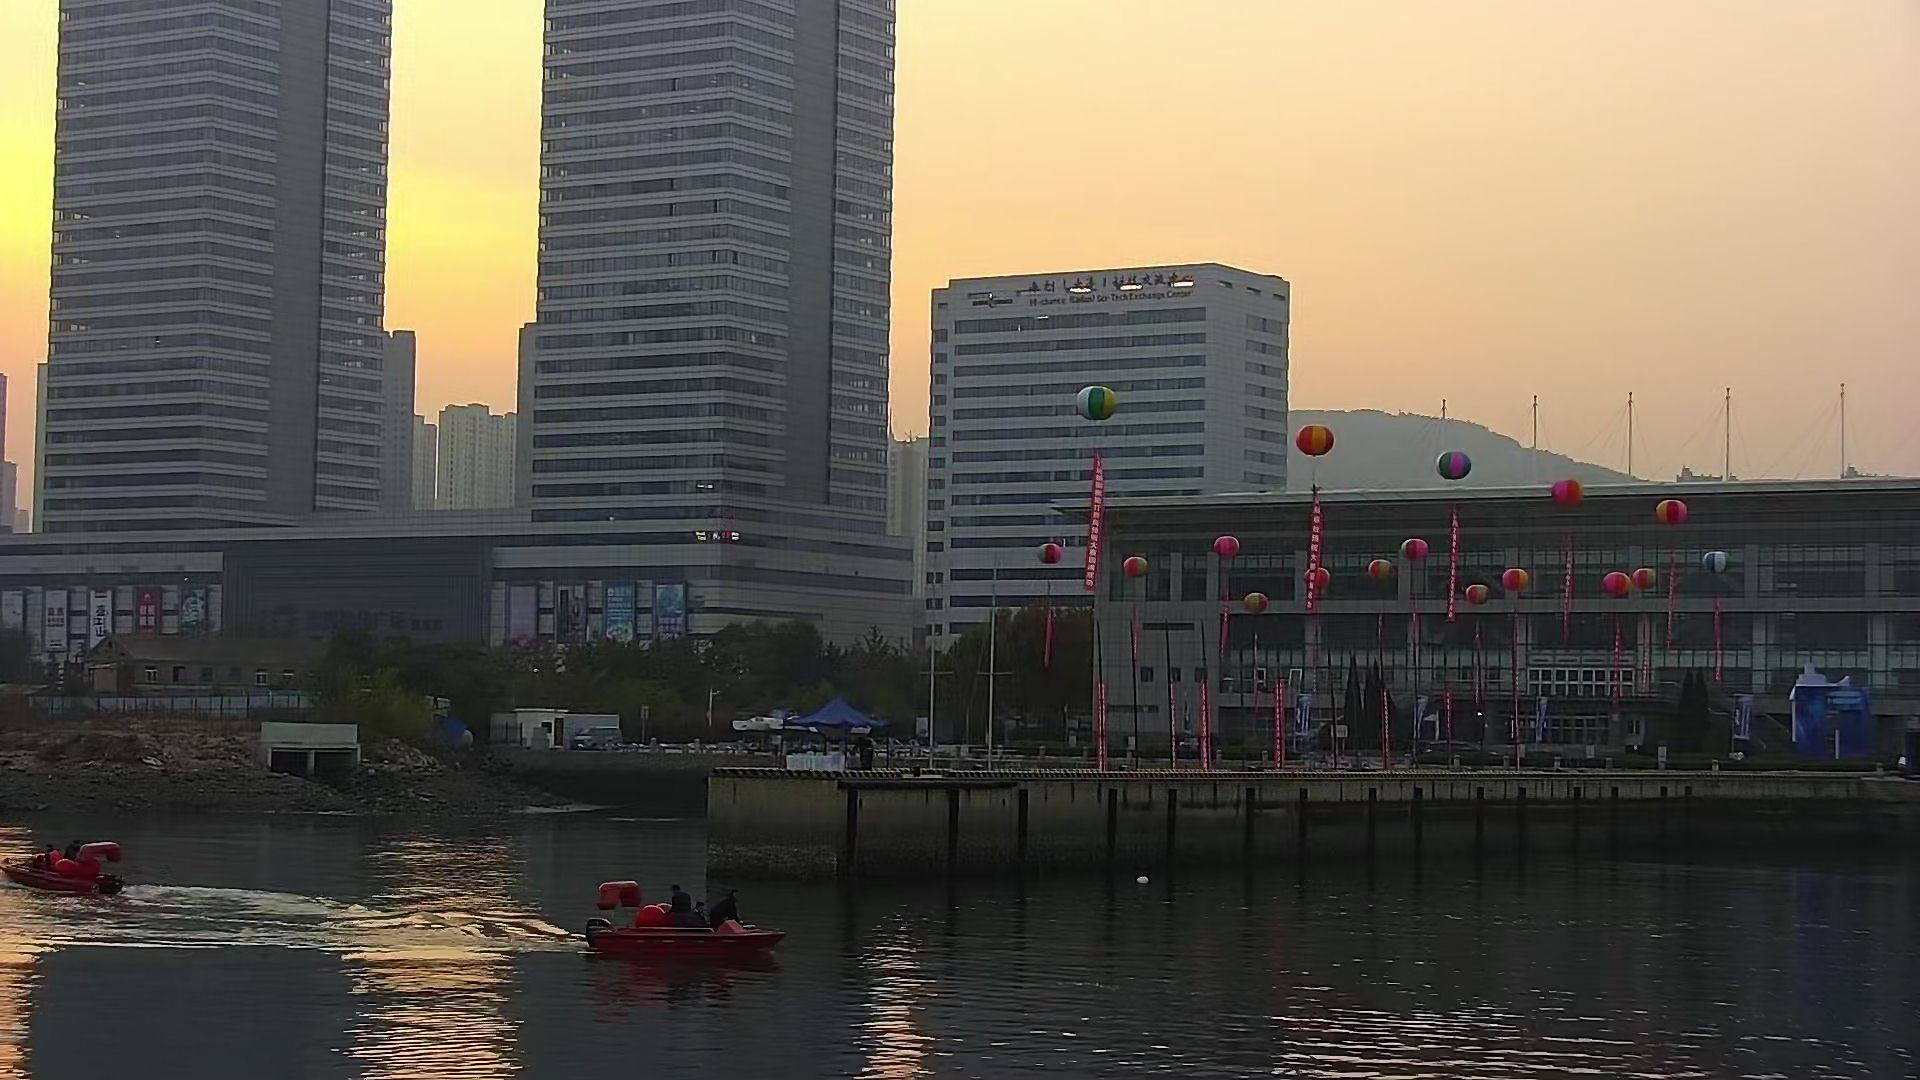boat: (585, 876, 785, 963), (1, 833, 135, 901)
